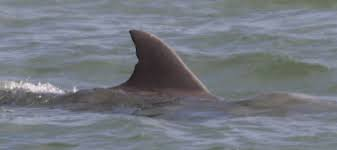fin: (39, 24, 242, 113)
